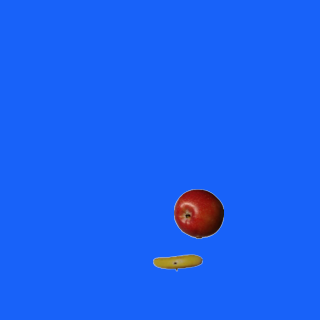Apple Braeburn: (173, 188, 223, 238)
Banana: (152, 237, 202, 287)
